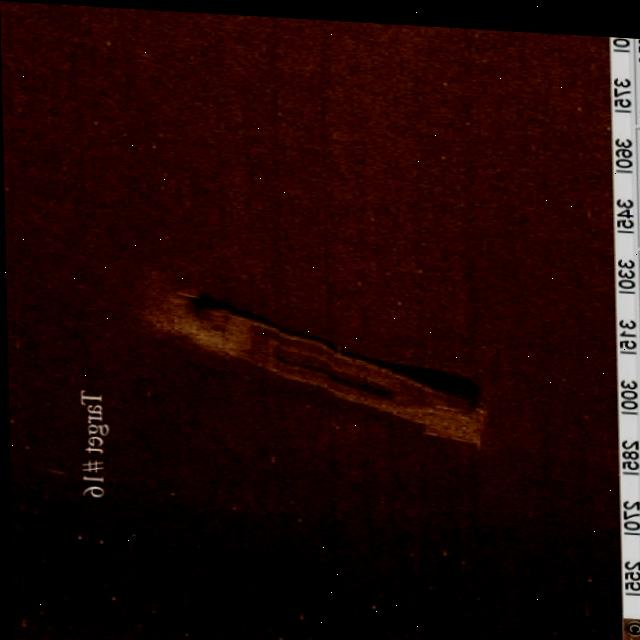shipwreck: (152, 287, 487, 444)
